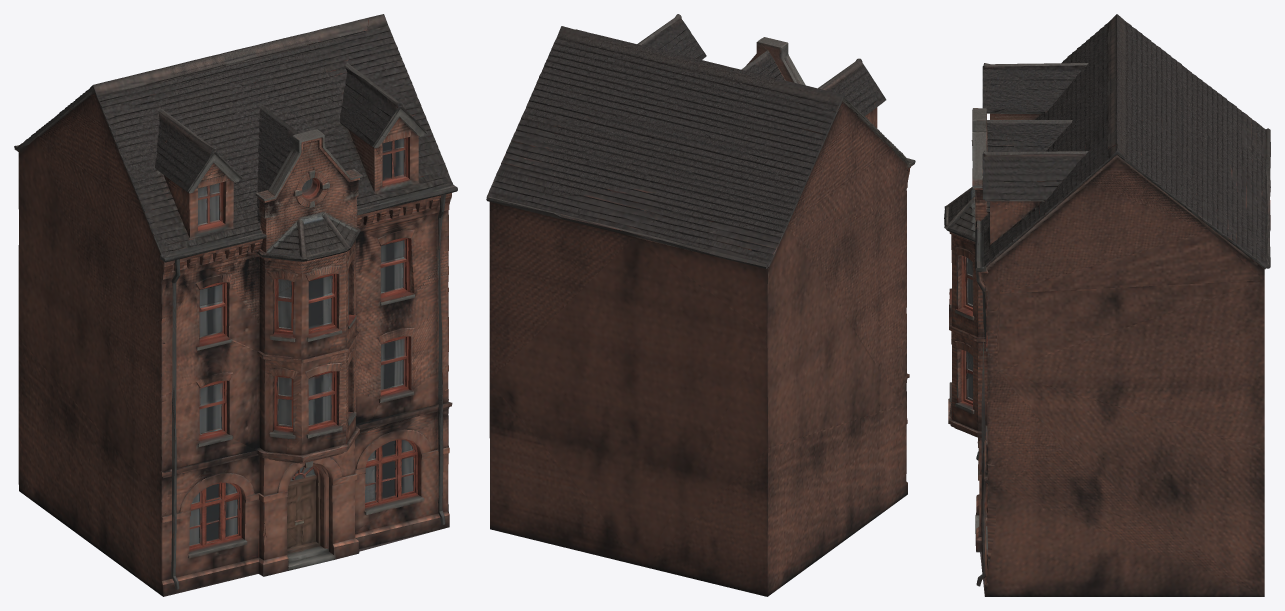
Rendered from colony_house_c2_risalit__b.glb.
3 views of the same model, side by side, from view 1: azimuth 30°, elevation 25°; view 2: azimuth 150°, elevation 25°; view 3: azimuth 270°, elevation 25° (orthographic). The views are drawn at different scales.
Size of the model in its own units: 1.26 by 1.9 by 1.26.
Materials: 1 (1 with a texture image).
